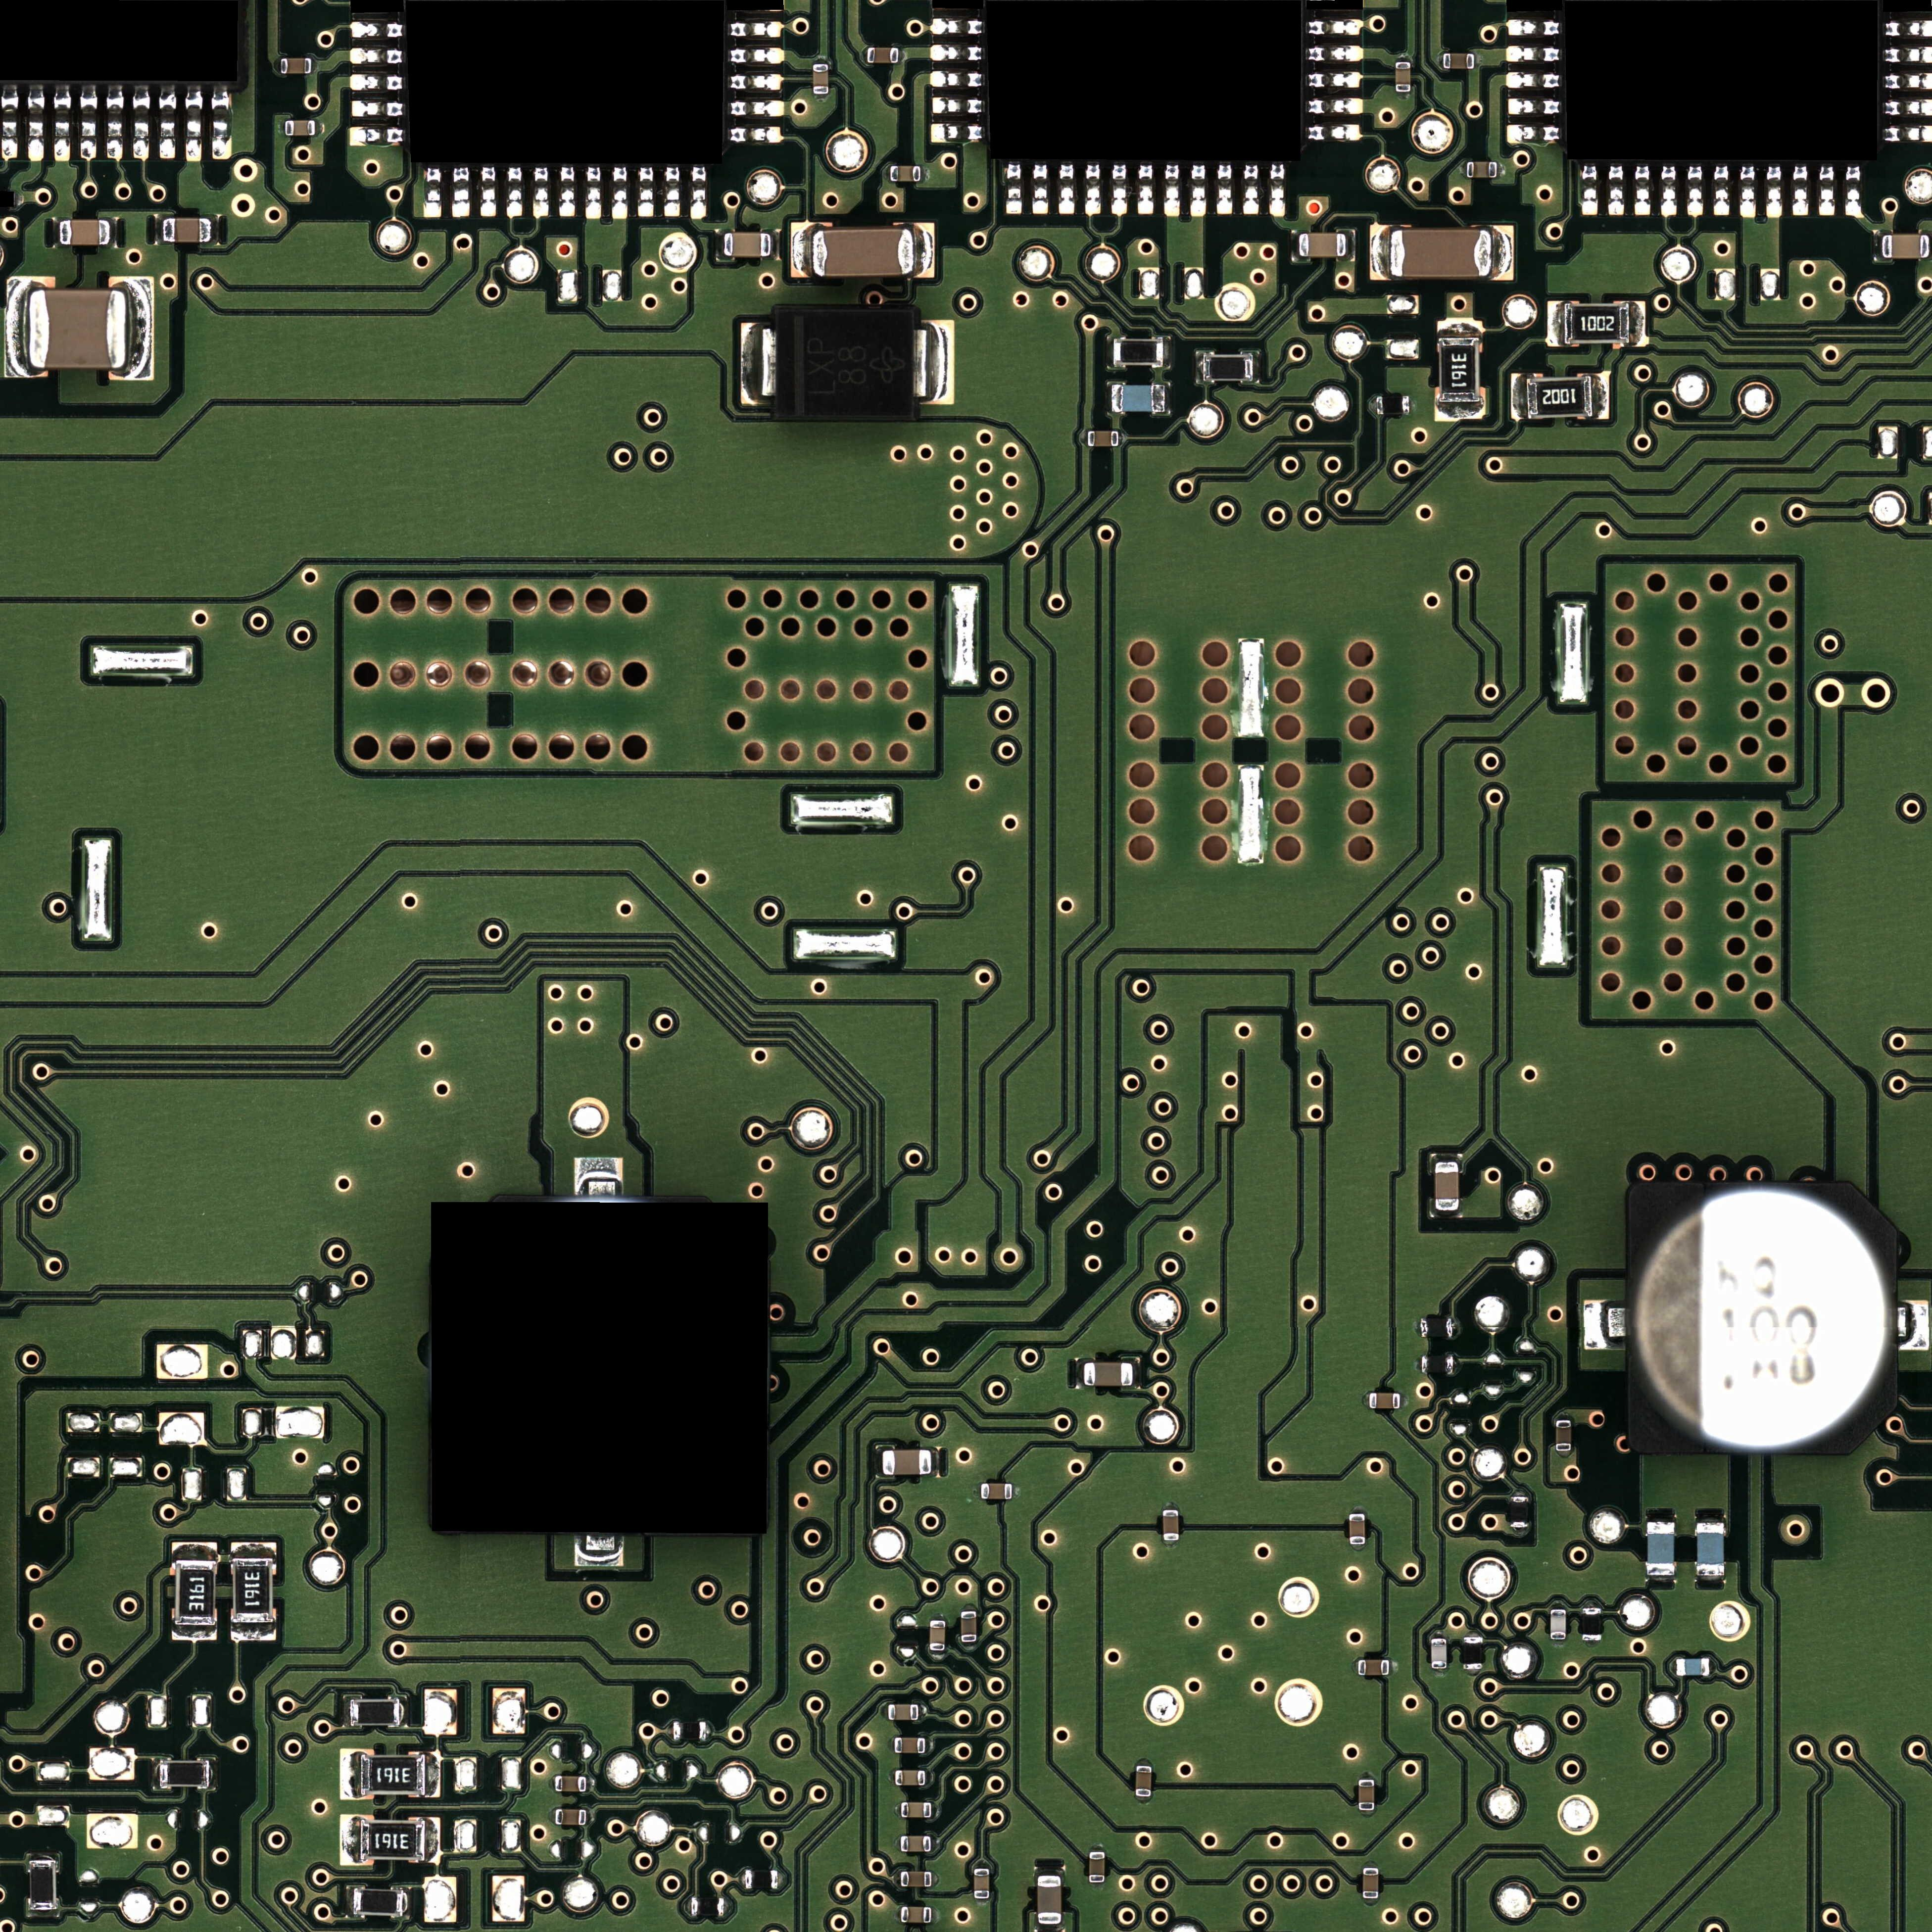Package: (1627, 1180, 1898, 1451), (776, 306, 915, 422), (28, 289, 127, 370), (813, 228, 914, 276), (1391, 229, 1492, 277), (1438, 337, 1480, 403), (1527, 377, 1593, 418), (233, 1558, 274, 1623), (175, 1560, 215, 1626), (1564, 303, 1630, 343), (360, 1821, 425, 1860), (361, 1755, 425, 1795), (1112, 385, 1165, 413), (1697, 1522, 1724, 1575), (1647, 1522, 1674, 1574), (353, 1889, 403, 1916), (1113, 339, 1163, 366), (60, 220, 110, 245), (882, 1449, 931, 1475), (351, 1699, 400, 1725), (160, 1761, 209, 1787), (1204, 354, 1253, 380), (30, 1860, 55, 1909), (1084, 1362, 1133, 1387), (163, 218, 211, 242), (1435, 1162, 1459, 1210), (1037, 1876, 1062, 1924), (1299, 233, 1346, 257), (724, 233, 771, 257), (1883, 235, 1929, 258), (1463, 1636, 1483, 1669), (1582, 1608, 1602, 1641), (673, 1721, 706, 1740), (691, 1897, 724, 1917), (745, 1870, 778, 1889), (1510, 1496, 1529, 1528), (1421, 1318, 1452, 1337), (1676, 1658, 1709, 1676), (1376, 396, 1409, 414), (1421, 1355, 1453, 1373), (555, 1776, 586, 1792), (1136, 1765, 1152, 1797), (888, 1704, 919, 1720), (556, 1809, 586, 1825), (981, 1483, 1012, 1499), (1466, 161, 1497, 178), (1349, 1514, 1365, 1545), (1556, 1420, 1572, 1451), (890, 165, 920, 182), (961, 1611, 977, 1642), (1162, 1510, 1179, 1540), (973, 1868, 990, 1898), (281, 58, 311, 74), (813, 64, 828, 95), (868, 48, 898, 63), (901, 1871, 931, 1887), (1444, 53, 1474, 69), (1358, 1780, 1374, 1810), (1089, 1852, 1105, 1883), (1363, 1868, 1379, 1898), (901, 1907, 931, 1923), (895, 1738, 925, 1753), (1395, 62, 1411, 92), (1550, 1609, 1566, 1640), (1369, 1393, 1400, 1408), (1088, 431, 1118, 446), (1358, 1660, 1389, 1675), (285, 120, 315, 136), (901, 1836, 930, 1852), (895, 1770, 925, 1786), (1431, 1639, 1447, 1668), (930, 1621, 945, 1650), (901, 1802, 931, 1818)
Solder: (915, 320, 954, 405), (740, 323, 775, 406), (128, 278, 152, 381), (5, 279, 27, 378), (1584, 1300, 1624, 1349), (575, 1157, 622, 1194), (575, 1535, 623, 1565), (1899, 1301, 1929, 1351), (212, 86, 232, 159), (81, 86, 97, 159), (107, 86, 124, 159), (1492, 225, 1514, 281), (2, 85, 18, 159), (28, 86, 45, 159), (133, 86, 149, 160), (186, 86, 202, 160), (160, 85, 176, 160), (55, 85, 71, 159), (791, 222, 812, 278), (914, 222, 935, 278), (1370, 224, 1390, 281), (931, 124, 984, 143), (340, 1749, 360, 1800), (351, 127, 403, 146), (1507, 100, 1561, 118), (1507, 126, 1561, 144), (341, 1815, 359, 1866), (689, 166, 706, 219), (1435, 403, 1486, 421), (1309, 97, 1362, 114), (1507, 72, 1561, 89), (1879, 101, 1932, 118), (1507, 17, 1560, 34), (1879, 18, 1932, 35), (585, 167, 602, 219), (731, 20, 780, 38), (425, 166, 441, 218), (505, 166, 523, 217), (558, 166, 575, 217), (638, 167, 655, 217), (931, 44, 982, 61), (230, 1623, 277, 1642), (731, 127, 781, 144), (1005, 162, 1021, 214), (1881, 73, 1932, 90), (1165, 162, 1181, 215), (1190, 163, 1206, 216), (1437, 319, 1483, 337), (932, 71, 983, 87), (932, 97, 983, 114), (480, 165, 496, 217), (933, 18, 983, 35), (352, 22, 404, 38), (351, 48, 403, 64), (351, 74, 403, 90), (350, 101, 402, 117), (1308, 124, 1360, 140), (1793, 164, 1809, 216), (1308, 72, 1360, 88), (1881, 128, 1932, 144), (1085, 163, 1101, 214), (1111, 162, 1127, 213), (1507, 46, 1560, 61), (1880, 48, 1932, 63), (1593, 372, 1609, 420), (1688, 165, 1703, 215), (732, 101, 784, 116), (1766, 165, 1782, 217), (1740, 165, 1756, 217), (1846, 164, 1861, 216), (1661, 164, 1677, 214), (172, 1542, 217, 1559), (732, 48, 783, 64), (1033, 163, 1048, 214), (1060, 162, 1075, 213), (1217, 163, 1233, 214), (1138, 163, 1154, 214), (1244, 163, 1259, 214), (1270, 163, 1285, 216), (1608, 165, 1624, 215), (1635, 164, 1650, 214), (1714, 166, 1729, 216), (1819, 165, 1834, 217), (1583, 164, 1598, 214), (732, 74, 780, 90), (1308, 20, 1359, 35), (1309, 47, 1361, 61), (533, 167, 548, 217), (1547, 301, 1564, 346), (613, 167, 628, 218), (1511, 373, 1526, 420), (1630, 301, 1646, 346), (664, 166, 678, 216), (231, 1542, 277, 1557), (172, 1626, 217, 1641), (426, 1751, 441, 1798), (426, 1817, 440, 1863), (1872, 230, 1882, 262), (1346, 229, 1355, 261), (1074, 1358, 1084, 1389), (1430, 1210, 1463, 1218), (1695, 1514, 1726, 1523), (1034, 1866, 1064, 1875), (1646, 1575, 1676, 1584), (1291, 230, 1300, 262), (400, 1695, 408, 1727), (1431, 1153, 1462, 1161), (1106, 336, 1114, 368), (342, 1696, 350, 1727), (771, 230, 779, 260), (1133, 1358, 1141, 1389), (1695, 1576, 1726, 1584), (151, 1759, 159, 1789), (403, 1887, 411, 1918), (209, 1758, 217, 1789), (345, 1886, 353, 1917), (716, 230, 724, 260), (1253, 352, 1261, 383), (1195, 352, 1203, 383), (1163, 337, 1171, 368), (28, 1851, 58, 1859), (27, 1910, 59, 1918), (1646, 1514, 1676, 1522), (875, 1446, 883, 1477), (1035, 1924, 1064, 1932), (1105, 383, 1112, 413), (932, 1448, 939, 1477), (1165, 383, 1172, 414), (110, 218, 117, 248), (155, 215, 162, 244), (53, 218, 59, 247), (15, 191, 24, 211), (211, 216, 218, 244), (778, 1870, 786, 1889), (920, 166, 929, 183), (706, 1721, 713, 1741), (973, 1482, 981, 1499), (1453, 1318, 1460, 1338), (1497, 161, 1504, 178), (316, 119, 323, 137), (724, 1897, 731, 1916), (1510, 1528, 1529, 1535), (278, 119, 285, 137), (1369, 396, 1376, 414), (1409, 396, 1417, 414), (684, 1898, 691, 1916), (667, 1721, 673, 1740), (813, 56, 829, 64), (1459, 161, 1467, 178), (738, 1870, 745, 1888), (1454, 1355, 1460, 1374), (273, 57, 280, 75), (883, 165, 890, 182), (899, 46, 906, 63), (1413, 1318, 1420, 1336), (1710, 1658, 1716, 1676), (930, 1613, 946, 1621), (961, 1604, 977, 1611), (1395, 54, 1411, 61), (1474, 52, 1482, 68), (1436, 52, 1443, 69), (312, 56, 318, 74), (1583, 1640, 1600, 1646), (1012, 1484, 1020, 1498), (587, 1776, 594, 1792), (548, 1808, 555, 1825), (1118, 431, 1125, 447), (1081, 431, 1088, 446), (1551, 1601, 1565, 1608), (1359, 1773, 1374, 1780), (1389, 1659, 1396, 1675), (1362, 1392, 1369, 1408), (975, 1861, 989, 1869), (549, 1776, 555, 1791), (1136, 1759, 1152, 1766), (1511, 1490, 1527, 1497), (861, 47, 867, 63), (1395, 92, 1411, 98), (586, 1809, 593, 1825), (1090, 1845, 1105, 1852), (925, 1738, 932, 1753), (931, 1908, 938, 1923), (1163, 1503, 1178, 1510), (919, 1705, 925, 1719), (961, 1642, 976, 1648), (1352, 1660, 1358, 1675), (1350, 1507, 1365, 1513), (1670, 1660, 1676, 1675), (1585, 1602, 1600, 1608), (1432, 1632, 1446, 1638), (1465, 1670, 1481, 1675), (925, 1770, 931, 1785), (1416, 1357, 1422, 1372), (1465, 1631, 1481, 1637), (1556, 1450, 1572, 1456), (931, 1803, 937, 1817), (883, 1704, 889, 1719), (930, 1651, 945, 1656), (931, 1836, 936, 1852), (812, 94, 829, 99), (931, 1873, 937, 1886), (1364, 1862, 1378, 1868), (896, 1836, 901, 1851), (1350, 1545, 1365, 1549), (1136, 1797, 1151, 1802), (896, 1908, 901, 1922), (1557, 1414, 1571, 1420), (1163, 1541, 1178, 1546), (890, 1738, 895, 1752), (890, 1770, 895, 1785), (1363, 1899, 1378, 1904), (1551, 1640, 1565, 1644), (1432, 1669, 1447, 1674), (896, 1872, 901, 1886), (1090, 1883, 1104, 1888), (974, 1898, 988, 1903), (897, 1803, 902, 1817), (1359, 1811, 1374, 1815), (1400, 1394, 1404, 1408)
